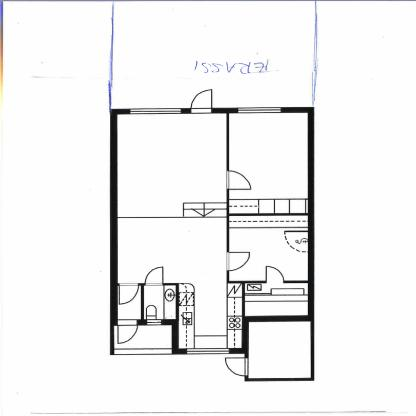door: (190, 88, 215, 114), (225, 252, 254, 273), (119, 320, 140, 344), (224, 357, 248, 377), (118, 284, 140, 304), (143, 265, 165, 284), (266, 264, 283, 283)
window: (184, 347, 230, 355), (115, 349, 172, 354), (129, 110, 177, 114), (236, 108, 279, 112)
zone: (111, 0, 311, 110), (118, 219, 243, 351), (116, 114, 226, 215), (230, 112, 307, 212), (229, 216, 308, 281), (248, 321, 311, 378), (244, 283, 310, 314), (118, 325, 172, 347), (143, 285, 176, 320), (119, 286, 142, 320)
